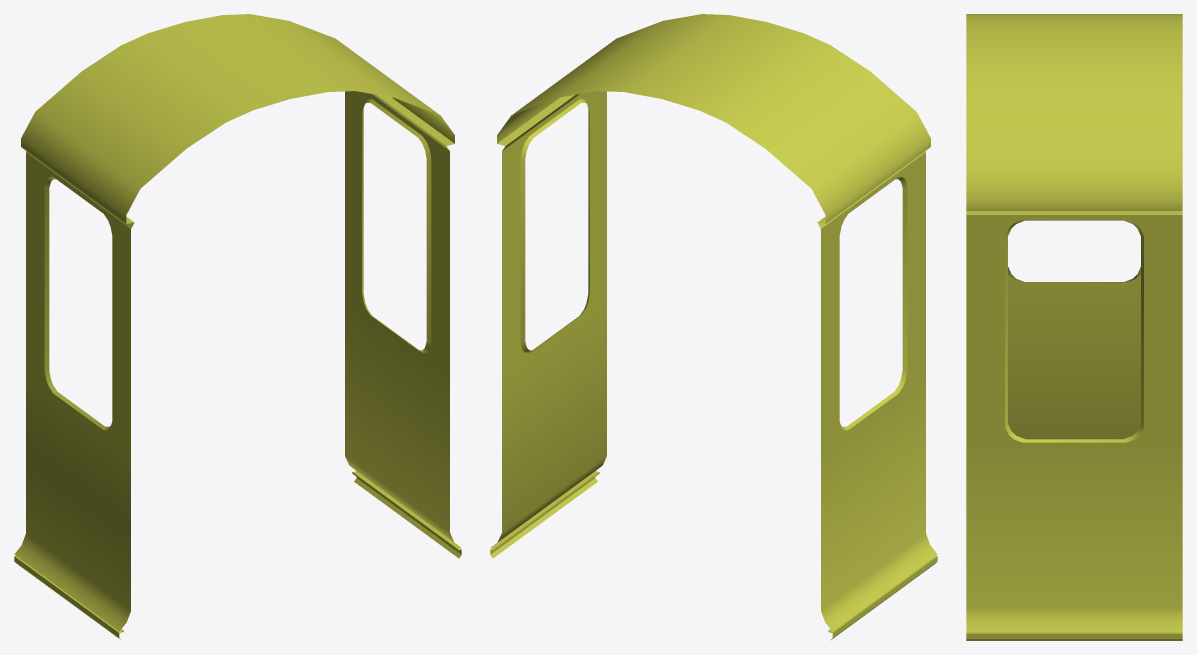
The model's file is vagon tile lod2.FBX.
3 views of the same model, side by side, from view 1: azimuth 30°, elevation 25°; view 2: azimuth 150°, elevation 25°; view 3: azimuth 270°, elevation 25° (orthographic). The views are drawn at different scales.
Parts seen in each view (by area): view 1: Object882; view 2: Object882; view 3: Object882.
Part boxes in pixels (left/top/right/bottom): Object882: left=14, top=14, right=461, bottom=640; Object882: left=490, top=14, right=937, bottom=640; Object882: left=966, top=14, right=1182, bottom=640.
Bounding box in the file's own units: 2.25 × 3.15 × 1.2.
